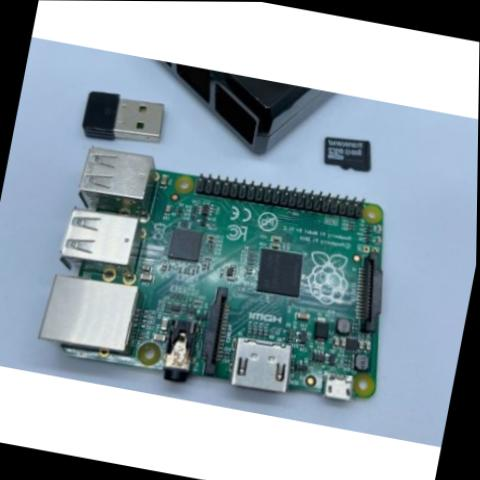Raspberry-Pi-1-Model-B-: (25, 133, 419, 423)
